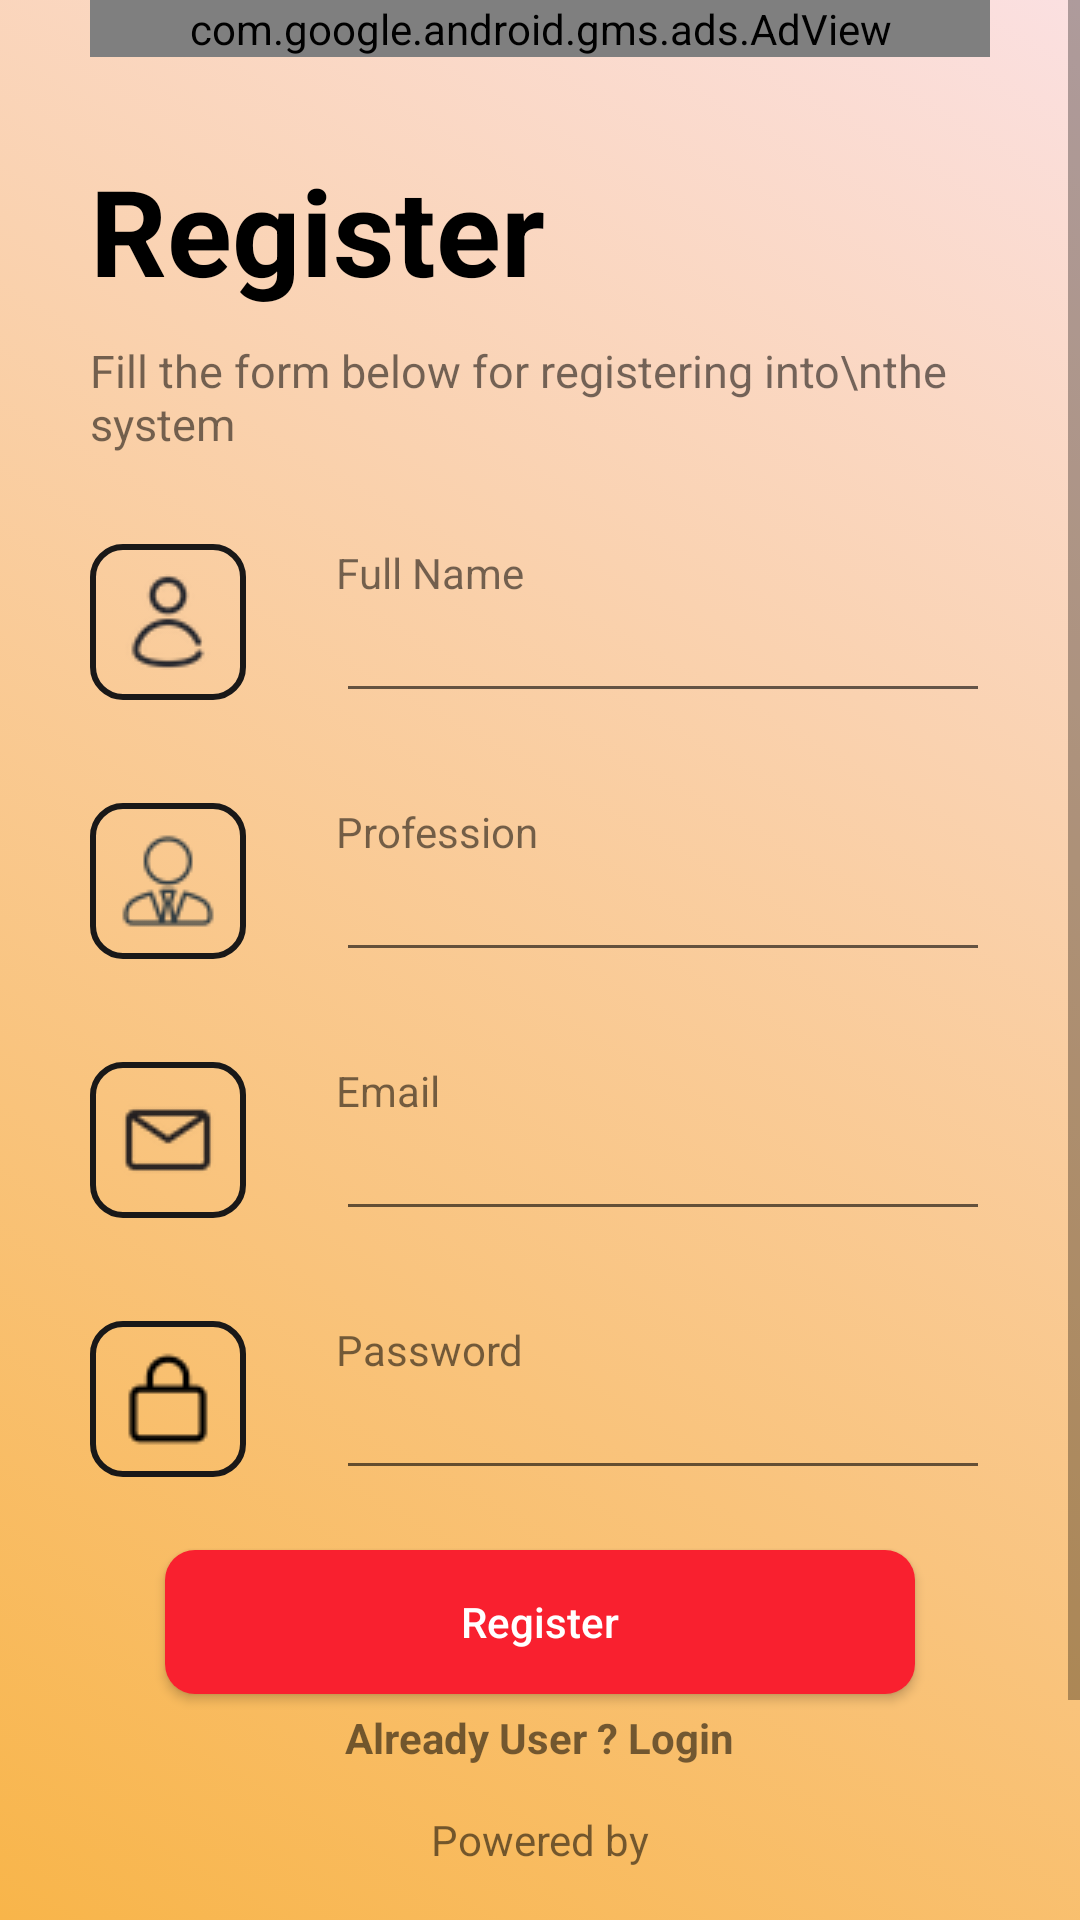

Icons on this 1080px x 1920px Android screen, each with the point to tap as [x,y]:
lock: [168,1399]
people: [168,622]
